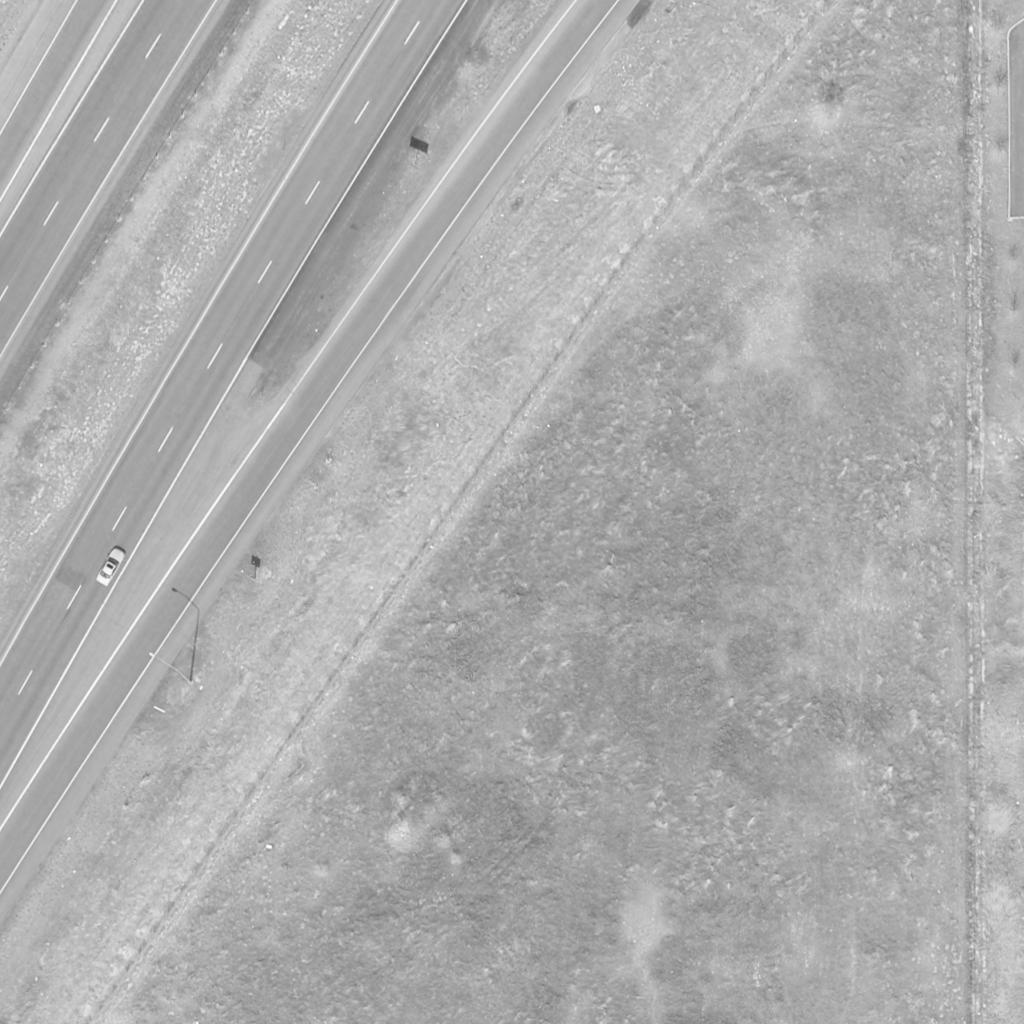vehicle: (94, 545, 128, 589)
